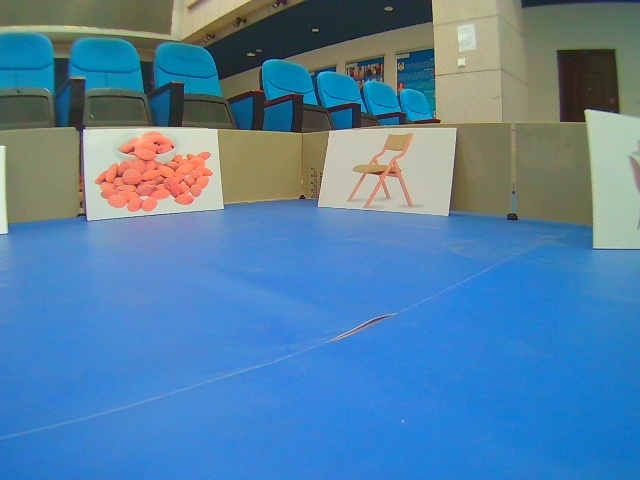food: (82, 129, 225, 222)
table: (317, 128, 457, 218)
